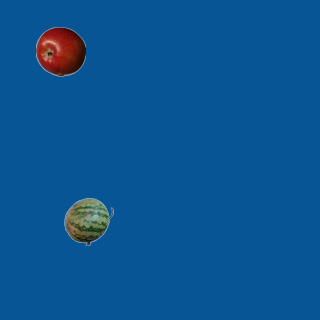Apple Braeburn: (35, 26, 85, 76)
Watermelon: (63, 196, 113, 246)
